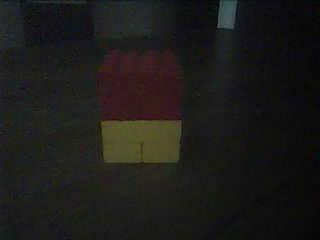lego: (98, 45, 183, 166)
